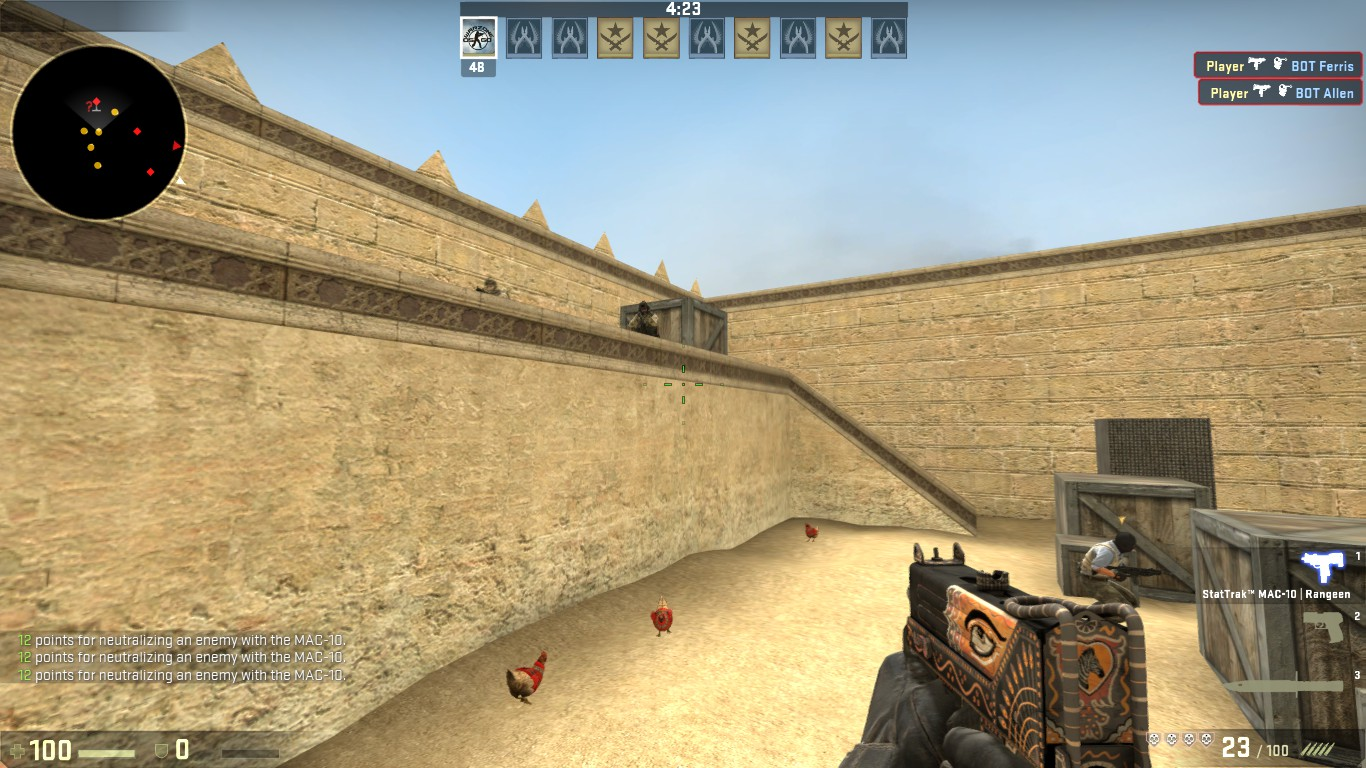ch: (638, 299, 651, 315)
t: (1080, 530, 1141, 618)
th: (1111, 531, 1140, 556)
